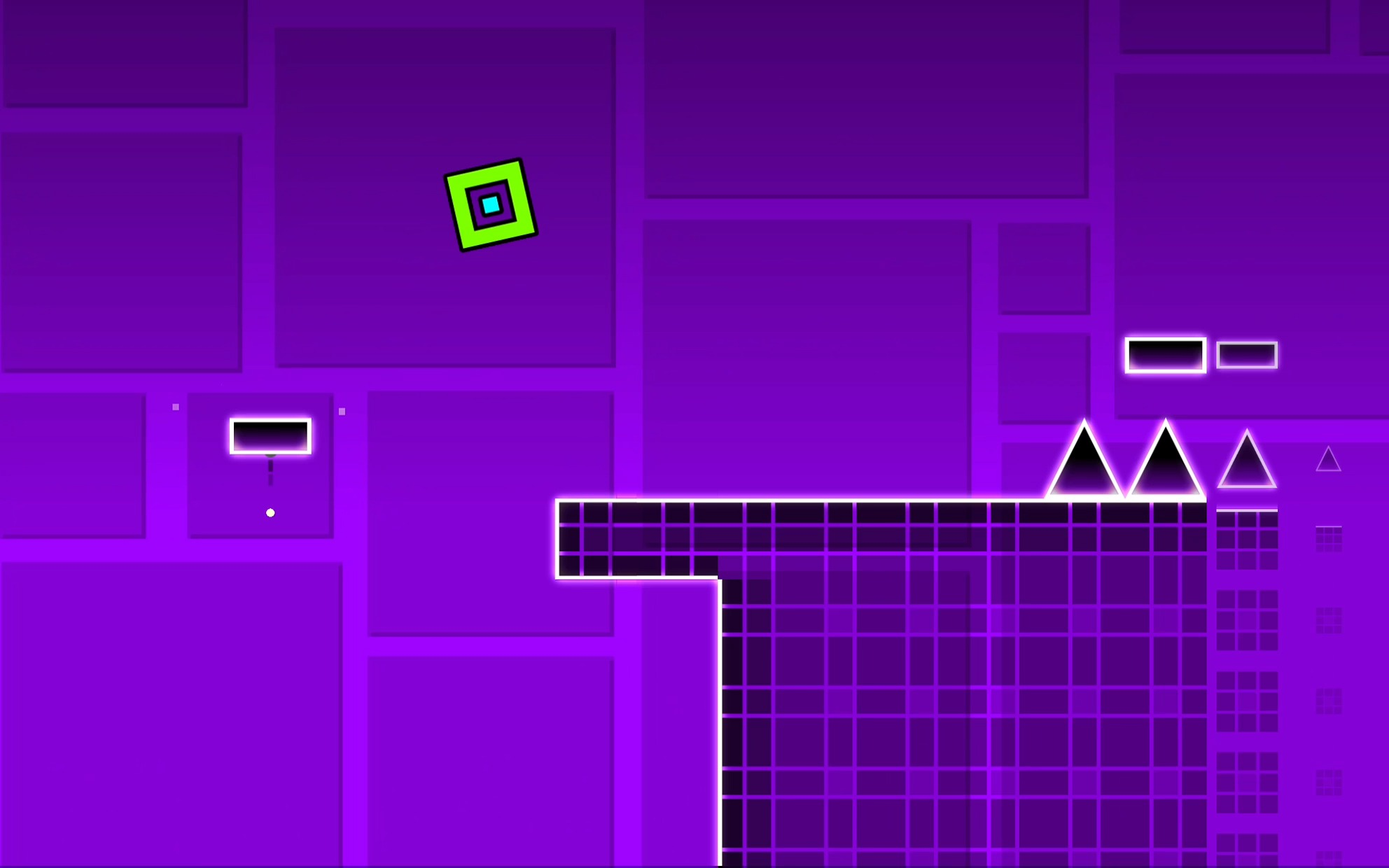Block2: (723, 502, 1286, 868), (555, 498, 725, 575)
Block3: (1123, 340, 1279, 369), (229, 417, 312, 454)
Player: (444, 158, 538, 251)
Spike: (1130, 422, 1203, 495), (1047, 421, 1119, 494), (1217, 430, 1276, 487)
